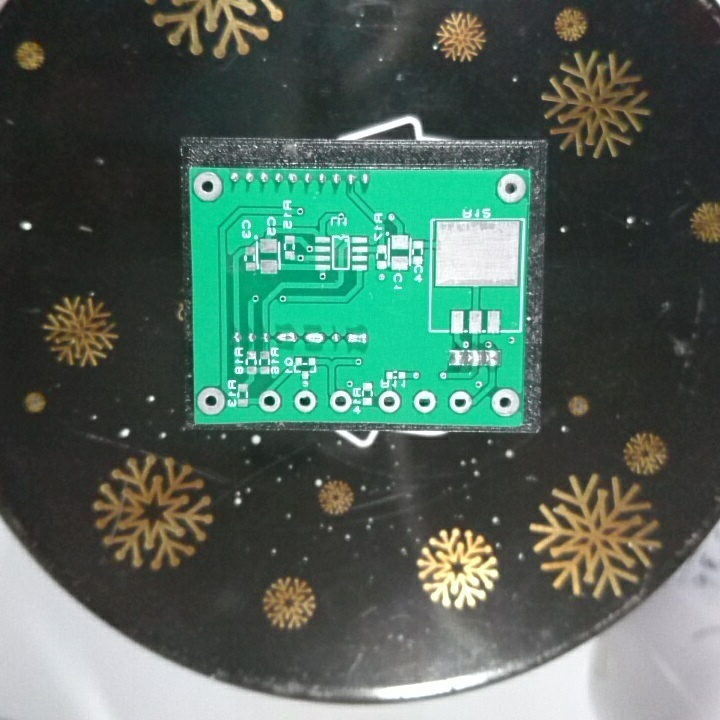F: (191, 171, 225, 203), (488, 387, 522, 419), (197, 384, 227, 418), (495, 173, 527, 203), (257, 387, 283, 414), (292, 389, 319, 415), (377, 387, 402, 415), (328, 389, 354, 415), (412, 389, 438, 415), (448, 389, 472, 415)
P: (302, 328, 326, 348), (344, 331, 372, 348), (273, 329, 298, 346)
